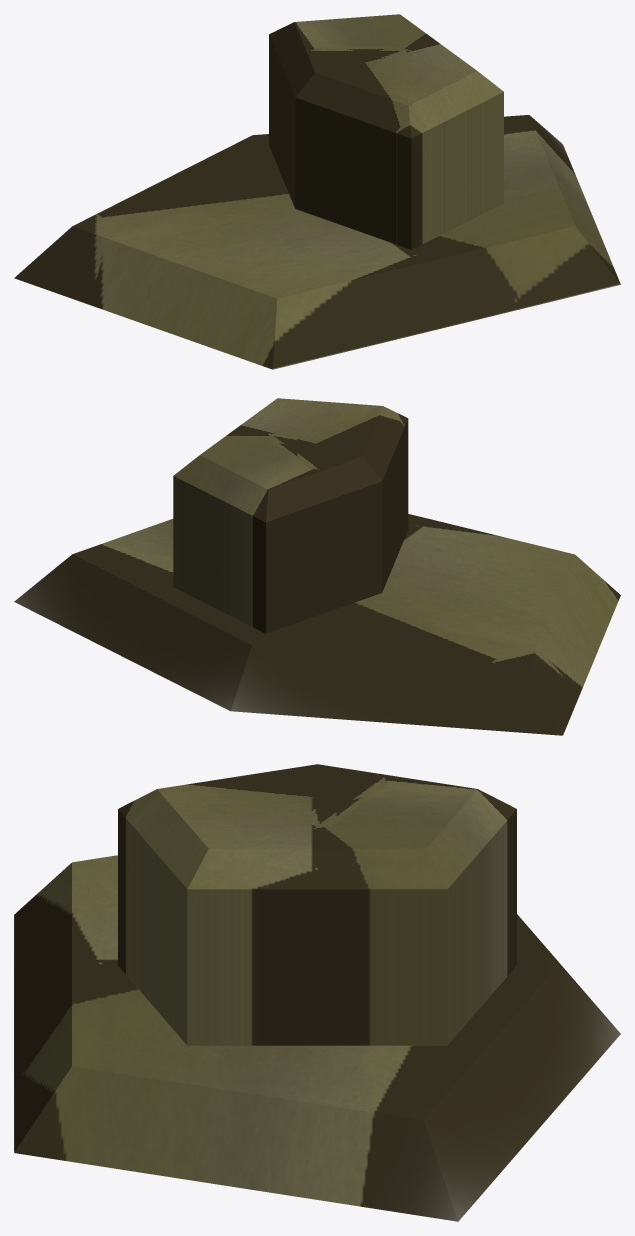
The model's file is cairoGrid.obj.
3 renders of one model, top to bottom at view 1: azimuth 30°, elevation 25°; view 2: azimuth 150°, elevation 25°; view 3: azimuth 270°, elevation 25°, orthographic. The views are drawn at different scales.
Visible parts, largest first — view 1: CairoObject_CairoMesh; view 2: CairoObject_CairoMesh; view 3: CairoObject_CairoMesh.
Boxes of the visible parts, x1,y1,x2,y2 form: CairoObject_CairoMesh: (14,14,620,369); CairoObject_CairoMesh: (14,398,620,735); CairoObject_CairoMesh: (14,764,620,1221).
Size of the model in its own units: 2 by 0.6301 by 1.37.
